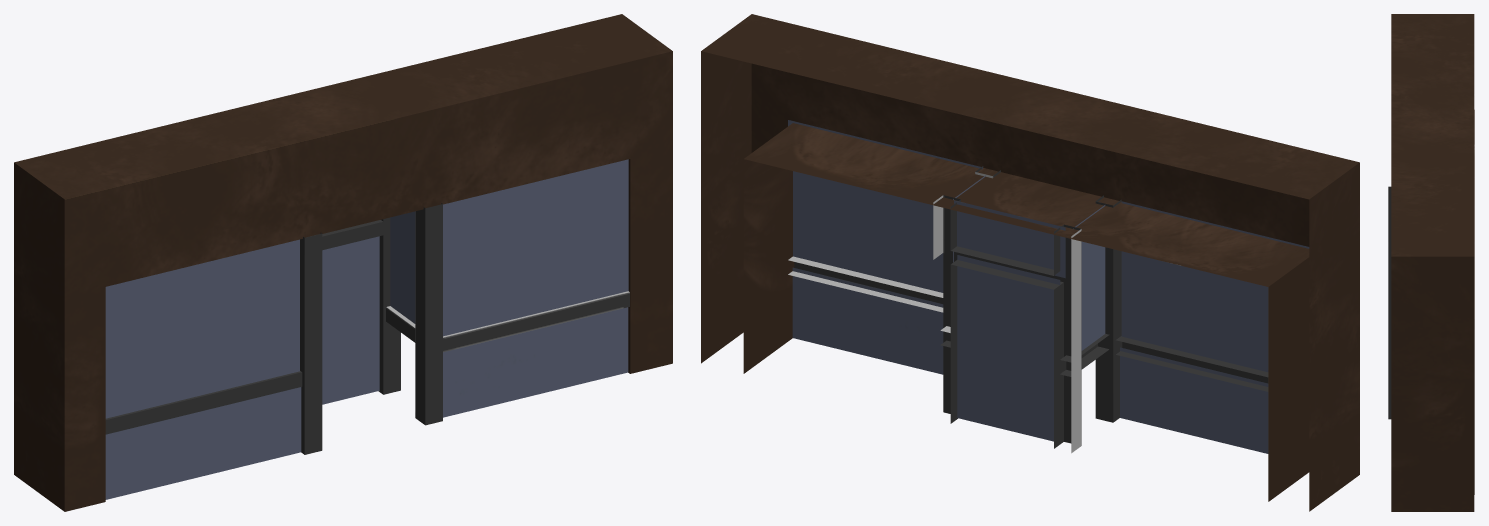
Rendered from M_3W_2F_building_store3.fbx.
3 renders of one model, left to right at view 1: azimuth 30°, elevation 25°; view 2: azimuth 150°, elevation 25°; view 3: azimuth 270°, elevation 25°, orthographic. The views are drawn at different scales.
Visible parts, largest first — view 1: Object053; view 2: Object053; view 3: Object053.
Part boxes in pixels (x1,y1,x2,y2): Object053: (14, 14, 672, 511); Object053: (701, 14, 1359, 511); Object053: (1388, 14, 1474, 511).
Size of the model in its own units: 1736 by 852 by 260.
